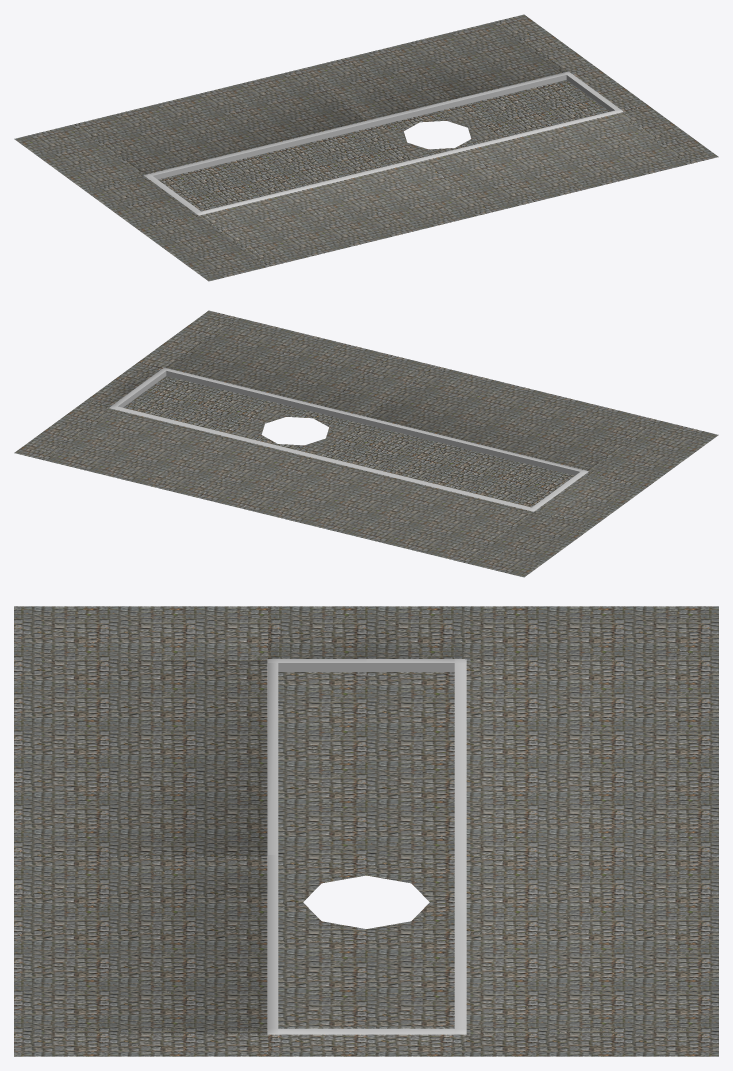
The model's file is SM_DungeonPrison_Floor.FBX.
3 views of the same model, one above another, from view 1: azimuth 30°, elevation 25°; view 2: azimuth 150°, elevation 25°; view 3: azimuth 270°, elevation 25° (orthographic). The views are drawn at different scales.
Parts seen in each view (by area): view 1: SM_DungeonPrison_Floor; view 2: SM_DungeonPrison_Floor; view 3: SM_DungeonPrison_Floor.
Boxes of the visible parts, box(x1,y1,x2,y2) form: SM_DungeonPrison_Floor: box(14, 14, 718, 281); SM_DungeonPrison_Floor: box(14, 310, 718, 577); SM_DungeonPrison_Floor: box(14, 606, 718, 1056).
Size of what is drawn, in the model's own units: 2129 by 1408 by 20.27.
